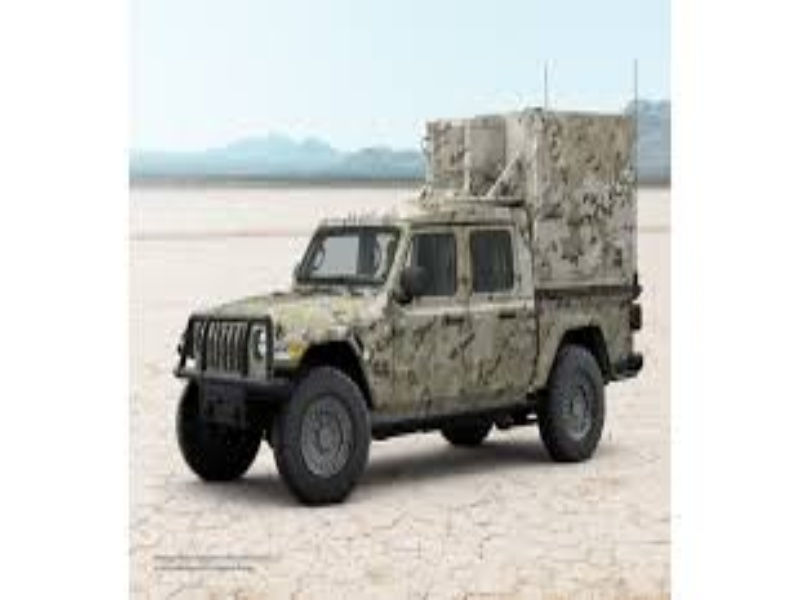jeep: (172, 108, 648, 512)
